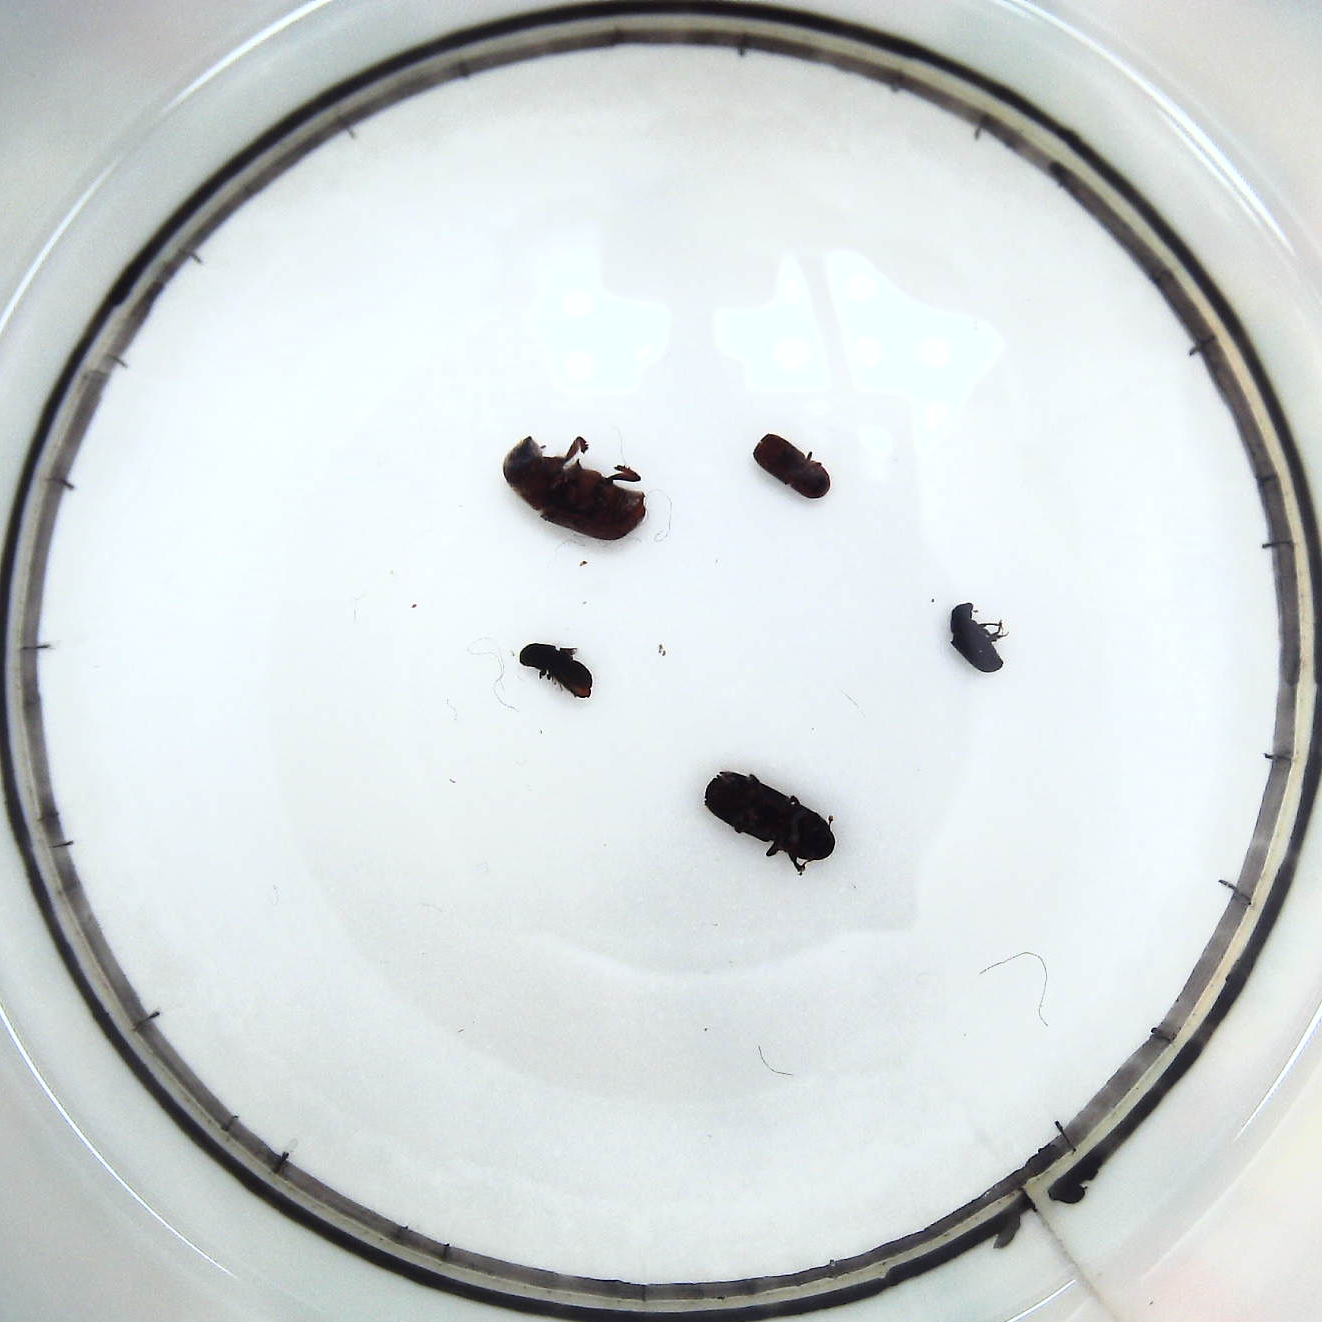Boerner: (699, 763, 840, 880)
Leconte: (501, 426, 648, 544)
armandi: (513, 639, 596, 700)
coleoptera: (943, 594, 1006, 680)
linnaeus: (748, 431, 833, 502)
